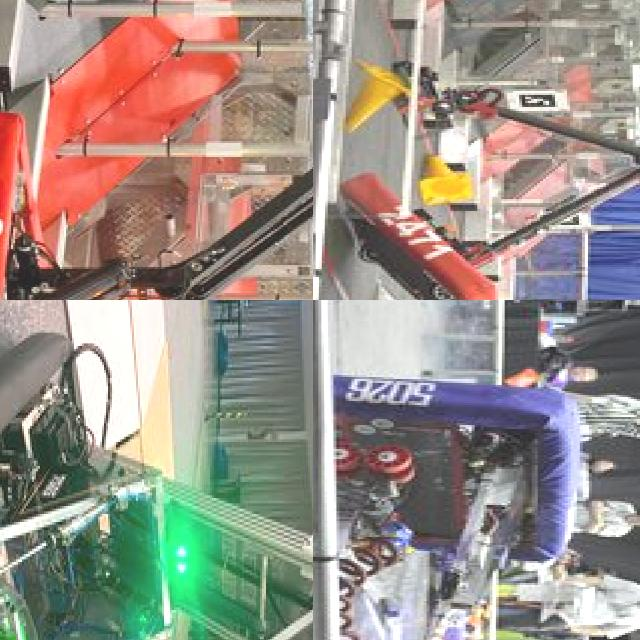FRC-Robots: (0, 317, 313, 640), (313, 0, 640, 300), (0, 0, 313, 300), (313, 307, 577, 640)
